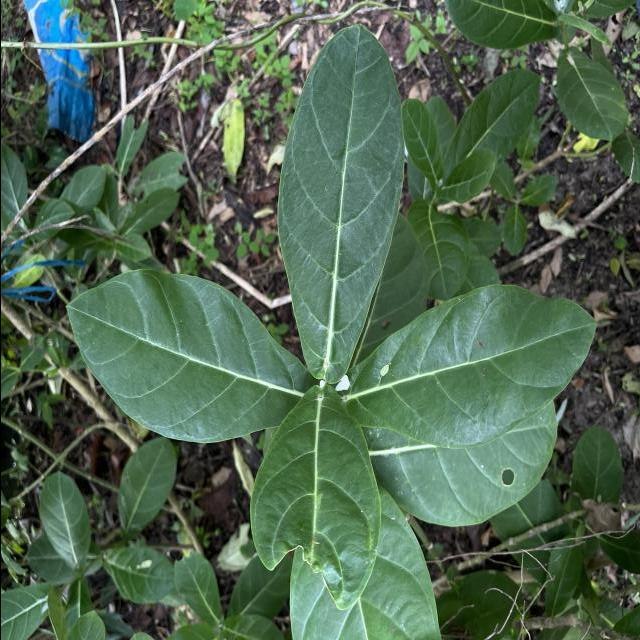Calotropis gigantea: (271, 25, 405, 389), (63, 265, 309, 448), (348, 282, 600, 452), (366, 418, 562, 534), (439, 68, 542, 172), (114, 434, 177, 538), (442, 0, 560, 51), (36, 471, 90, 568), (100, 546, 173, 608)
